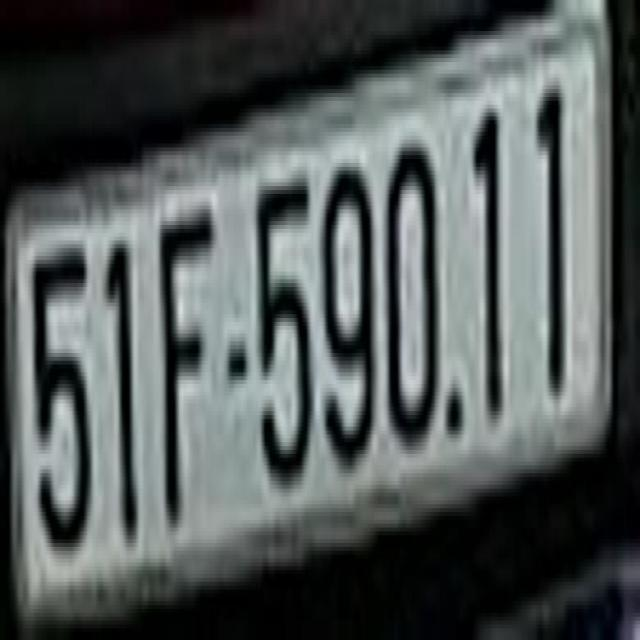0: (380, 116, 444, 481)
1: (526, 42, 587, 416), (96, 217, 151, 559), (468, 70, 521, 423)
5: (30, 221, 96, 582), (252, 140, 316, 497)
9: (316, 140, 378, 484)
F: (154, 178, 216, 524)
